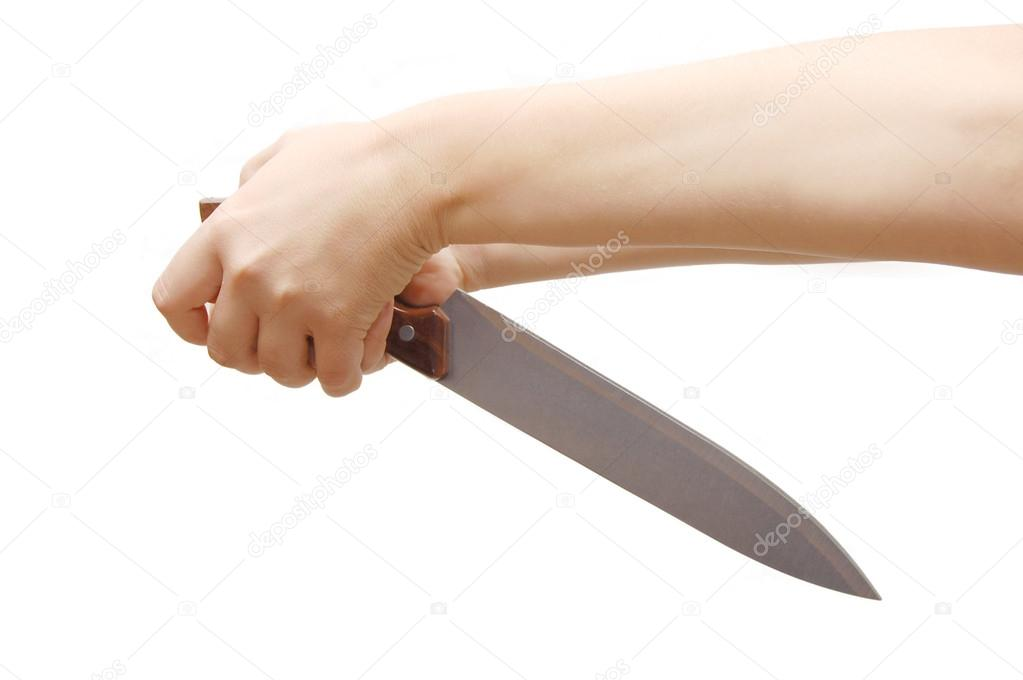knife: (150, 236, 900, 609)
